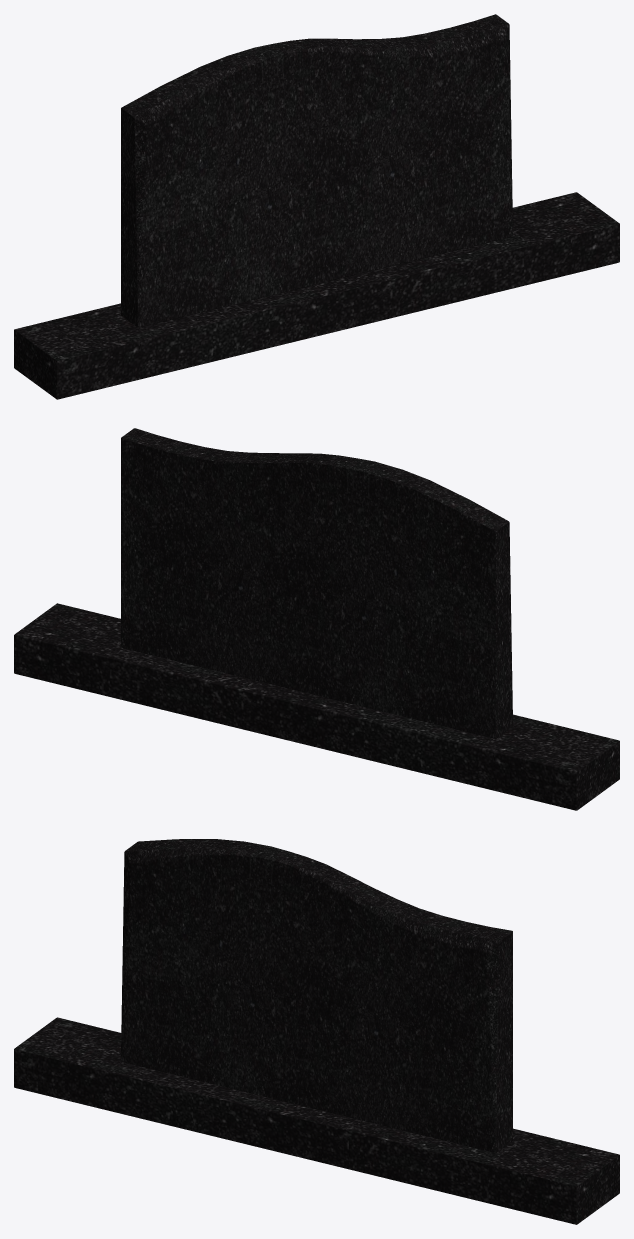
Rendered from Number 20.gltf.
3 views of the same model, one above another, from view 1: azimuth 30°, elevation 25°; view 2: azimuth 150°, elevation 25°; view 3: azimuth 330°, elevation 25° (orthographic).
Parts seen in each view (by area): view 1: Cube.023, Cube.022; view 2: Cube.023, Cube.022; view 3: Cube.023, Cube.022.
Boxes of the visible parts, <box> form: Cube.023: <box>121,14,512,327</box>; Cube.022: <box>14,192,619,399</box>; Cube.023: <box>121,428,512,738</box>; Cube.022: <box>14,603,619,810</box>; Cube.023: <box>121,839,512,1152</box>; Cube.022: <box>14,1017,619,1224</box>.
Size of the model in its own units: 1.5 by 0.7 by 0.2.
Materials: 1 (1 with a texture image).
